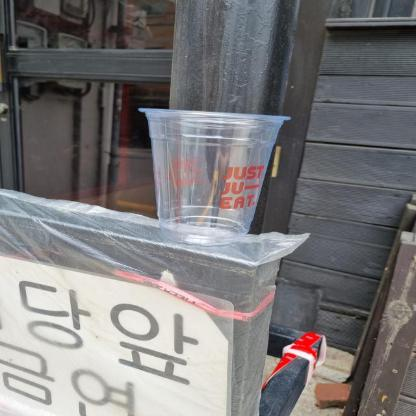Plastic Cup: (139, 106, 293, 246)
